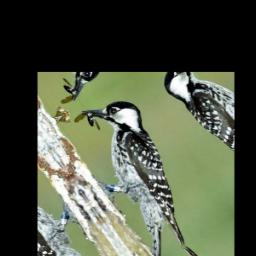Woodpecker: (56, 85, 219, 256)
